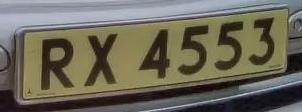3: (243, 14, 281, 73)
4: (135, 24, 175, 83)
5: (174, 20, 213, 77), (211, 18, 249, 75)
R: (34, 35, 83, 94)
X: (80, 28, 122, 90)
